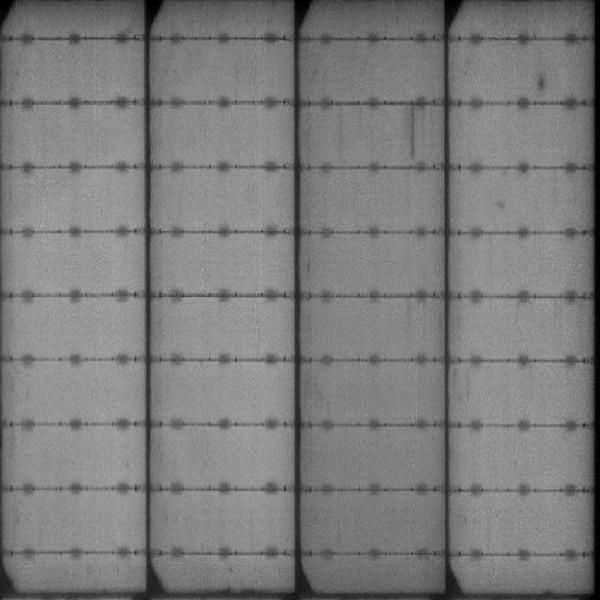scratch: (408, 113, 416, 165)
